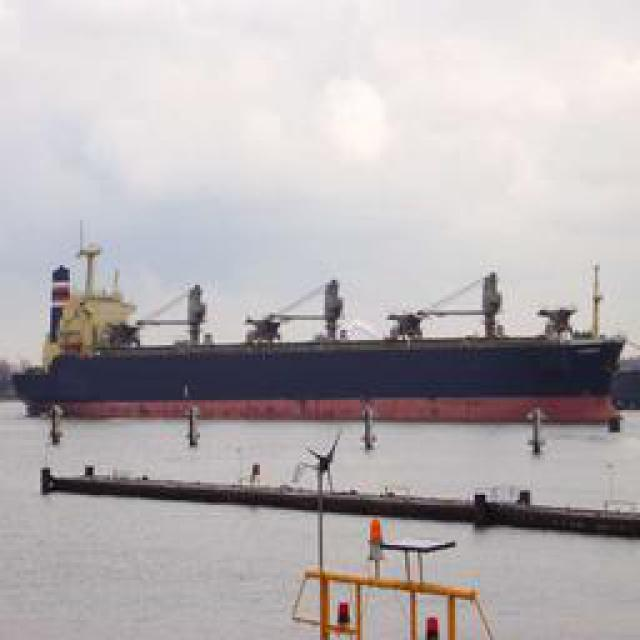Ship: (6, 270, 634, 428)
